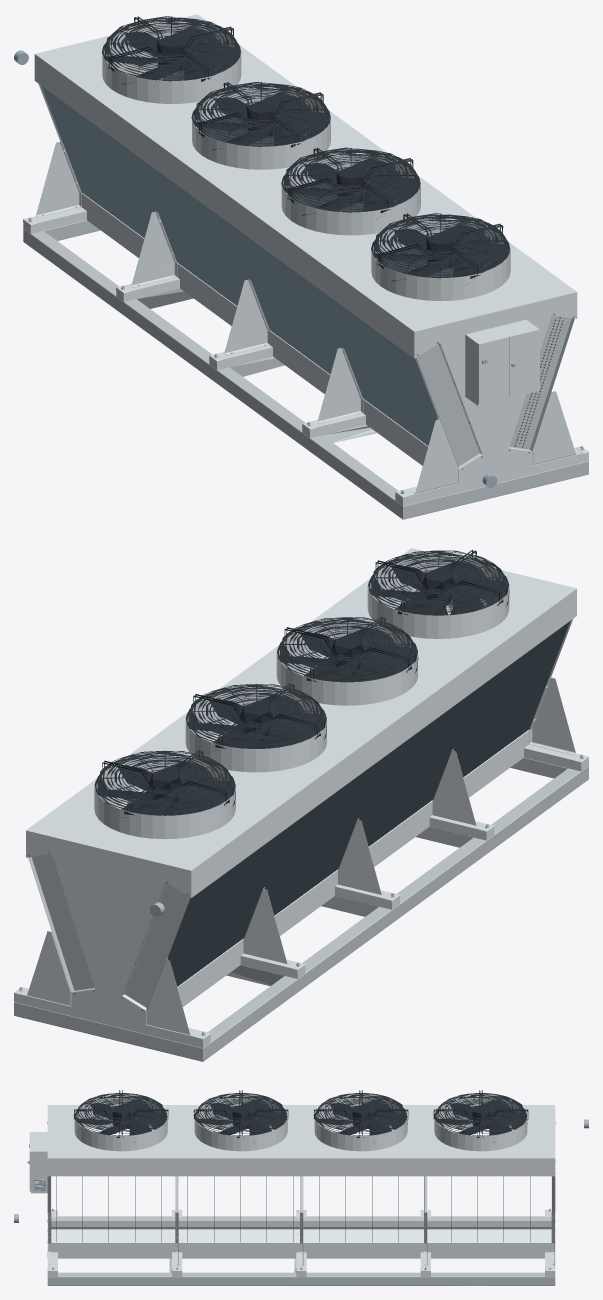
Rendered from chiller.glb.
The picture shows the model from 3 angles, top to bottom: view 1: azimuth 30°, elevation 25°; view 2: azimuth 150°, elevation 25°; view 3: azimuth 270°, elevation 25°; orthographic projection. The views are drawn at different scales.
Visible parts, largest first — view 1: Корпус, Ламель, Chiler.007, Chiler fan.001, Chiler fan.002, Chiler fan.003, Chiler fan, Рама; view 2: Корпус, Ламель, Chiler.007, Chiler fan, Chiler fan.003, Chiler fan.001, Chiler fan.002, Рама.001; view 3: Корпус, Chiler.007, Chiler fan.003, Chiler fan, Chiler fan.001, Chiler fan.002, Ламель.
Part boxes in pixels (x1,y1,x2,y2): Корпус: (23,14,588,506); Ламель: (41,61,563,447); Chiler.007: (23,220,588,519); Chiler fan.001: (281,147,420,218); Chiler fan.002: (191,82,330,150); Chiler fan.003: (101,16,240,84); Chiler fan: (371,213,509,284); Рама: (415,315,574,468); Корпус: (14,548,588,1047); Ламель: (121,591,570,986); Chiler.007: (14,757,588,1061); Chiler fan: (368,549,509,615); Chiler fan.003: (94,750,235,817); Chiler fan.001: (277,616,418,684); Chiler fan.002: (186,683,326,751); Рама.001: (28,854,190,1010); Корпус: (29,1097,555,1276); Chiler.007: (47,1216,555,1285); Chiler fan.003: (433,1090,528,1142); Chiler fan: (73,1090,168,1142); Chiler fan.001: (193,1090,288,1142); Chiler fan.002: (313,1090,408,1142); Ламель: (56,1128,530,1242).
Bounding box in the file's own units: 1.04 × 1.18 × 4.15.
